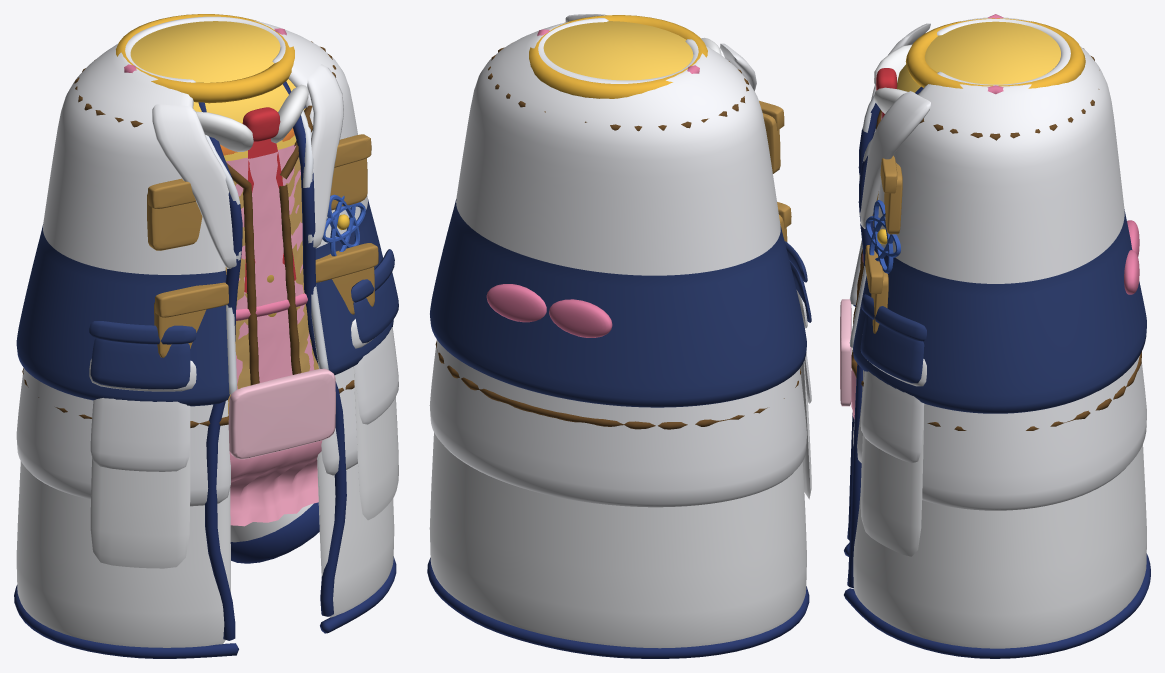
Rendered from pack_outfits.glb.
3 renders of one model, left to right at view 1: azimuth 30°, elevation 25°; view 2: azimuth 150°, elevation 25°; view 3: azimuth 270°, elevation 25°, orthographic. The views are drawn at different scales.
Parts seen in each view (by area): view 1: Outfit_LabCoat, Outfit_Gown, Outfit_JacketB, Outfit_Apron, Outfit_Explorer, Outfit_Casual, Outfit_UniformA, Outfit_Gown_Sleeve_L, Outfit_LabCoat_Sleeve_L; view 2: Outfit_LabCoat, Outfit_Gown, Outfit_JacketB, Outfit_Casual, Outfit_Explorer, Outfit_Apron; view 3: Outfit_LabCoat, Outfit_Gown, Outfit_JacketB, Outfit_Casual, Outfit_Explorer, Outfit_Apron, Outfit_UniformA.
Boxes of the visible parts, x1,y1,x2,y2 form: Outfit_LabCoat: [16, 16, 398, 506]; Outfit_Gown: [14, 81, 398, 658]; Outfit_JacketB: [16, 110, 398, 406]; Outfit_Apron: [124, 28, 335, 526]; Outfit_Explorer: [22, 41, 378, 427]; Outfit_Casual: [116, 14, 305, 161]; Outfit_UniformA: [196, 84, 308, 316]; Outfit_Gown_Sleeve_L: [230, 502, 319, 563]; Outfit_LabCoat_Sleeve_L: [230, 503, 313, 542]; Outfit_LabCoat: [429, 14, 811, 507]; Outfit_Gown: [427, 361, 811, 658]; Outfit_JacketB: [430, 199, 811, 407]; Outfit_Casual: [529, 15, 707, 98]; Outfit_Explorer: [435, 47, 801, 429]; Outfit_Apron: [486, 29, 699, 337]; Outfit_LabCoat: [853, 17, 1146, 510]; Outfit_Gown: [844, 86, 1150, 658]; Outfit_JacketB: [849, 95, 1146, 413]; Outfit_Casual: [897, 18, 1085, 94]; Outfit_Explorer: [851, 48, 1141, 430]; Outfit_Apron: [840, 14, 1139, 419]; Outfit_UniformA: [874, 44, 912, 117].
Size of the model in its own units: 0.3351 by 0.4996 by 0.266.
